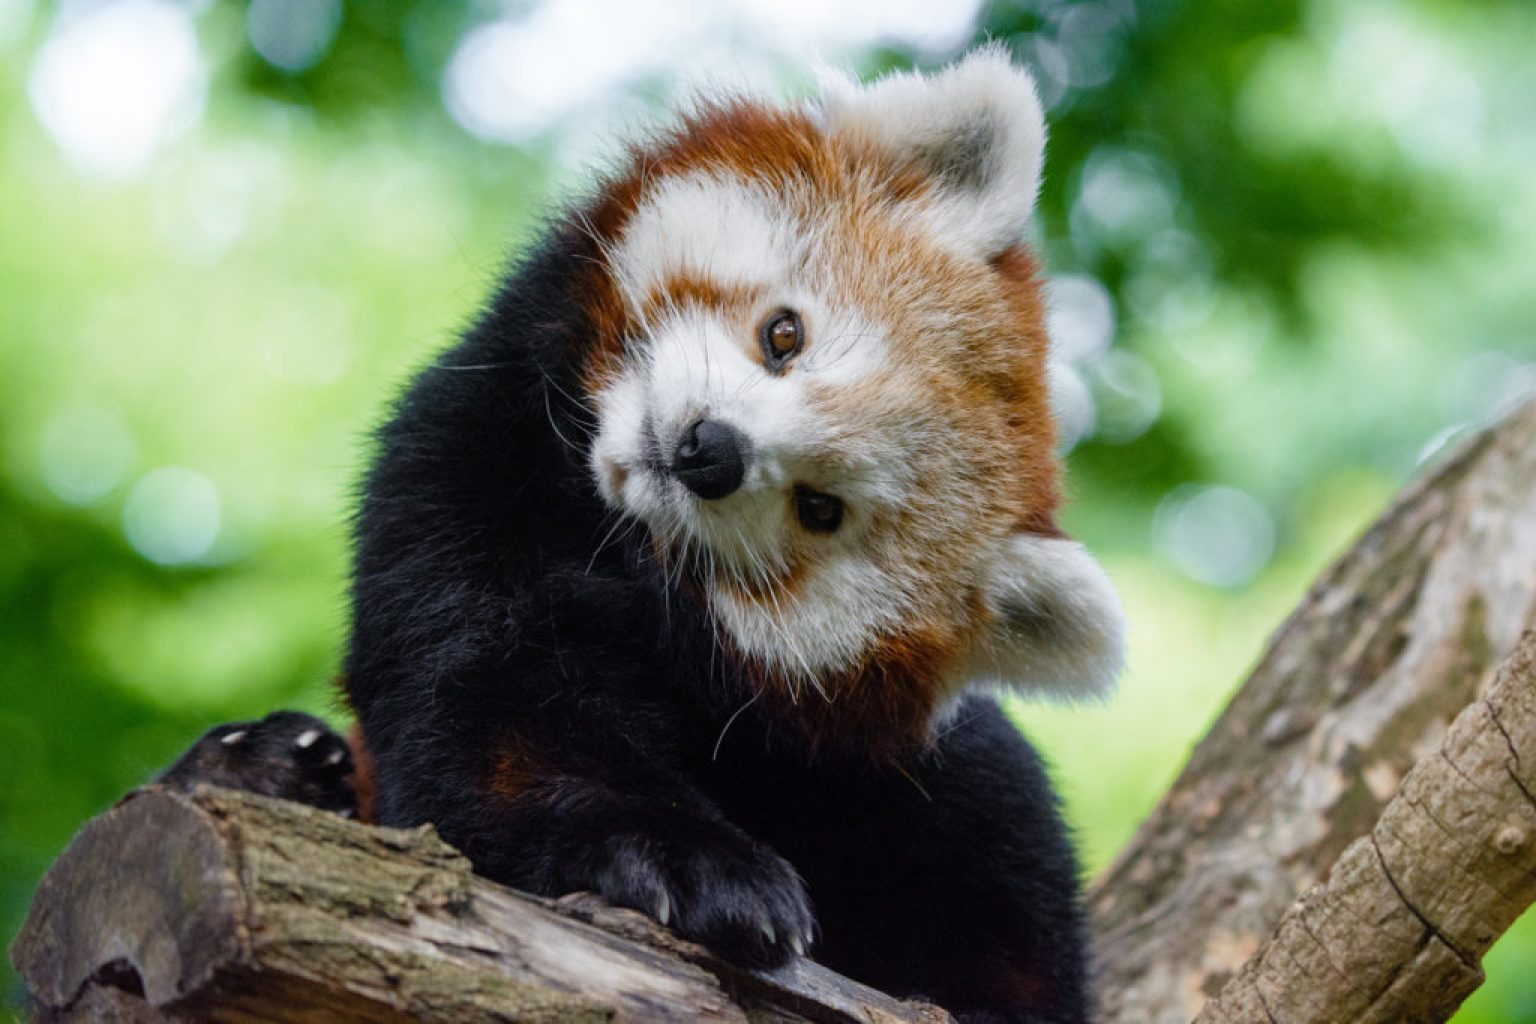Red panda: (579, 39, 1141, 720)
